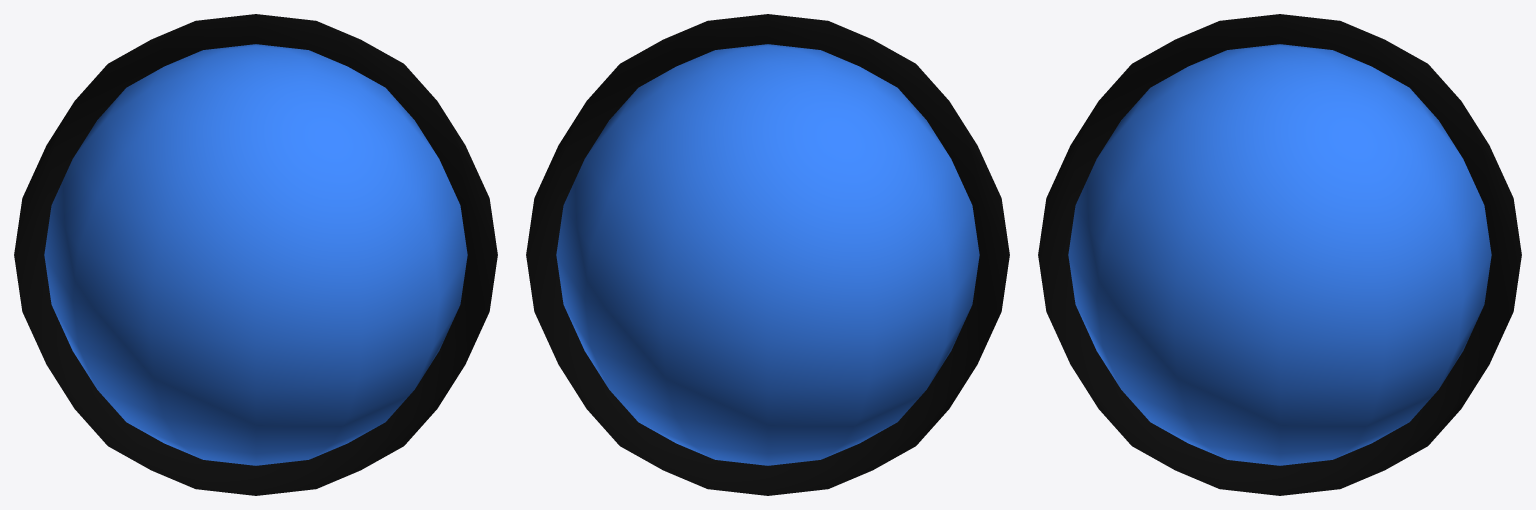
File: equipment_smoke.glb
The picture shows the model from 3 angles, left to right: view 1: azimuth 30°, elevation 25°; view 2: azimuth 150°, elevation 25°; view 3: azimuth 270°, elevation 25°; orthographic projection.
Visible parts, largest first — view 1: equipment_smoke__equipment_smoke, equipment_smoke__outline_1; view 2: equipment_smoke__equipment_smoke, equipment_smoke__outline_1; view 3: equipment_smoke__equipment_smoke, equipment_smoke__outline_1.
Part boxes in pixels (<box>): equipment_smoke__equipment_smoke: <box>44,44,467,465</box>; equipment_smoke__outline_1: <box>14,14,497,495</box>; equipment_smoke__equipment_smoke: <box>556,44,979,465</box>; equipment_smoke__outline_1: <box>526,14,1009,495</box>; equipment_smoke__equipment_smoke: <box>1068,44,1491,465</box>; equipment_smoke__outline_1: <box>1038,14,1521,495</box>.
Size of the model in its own units: 0.32 by 0.32 by 0.32.
